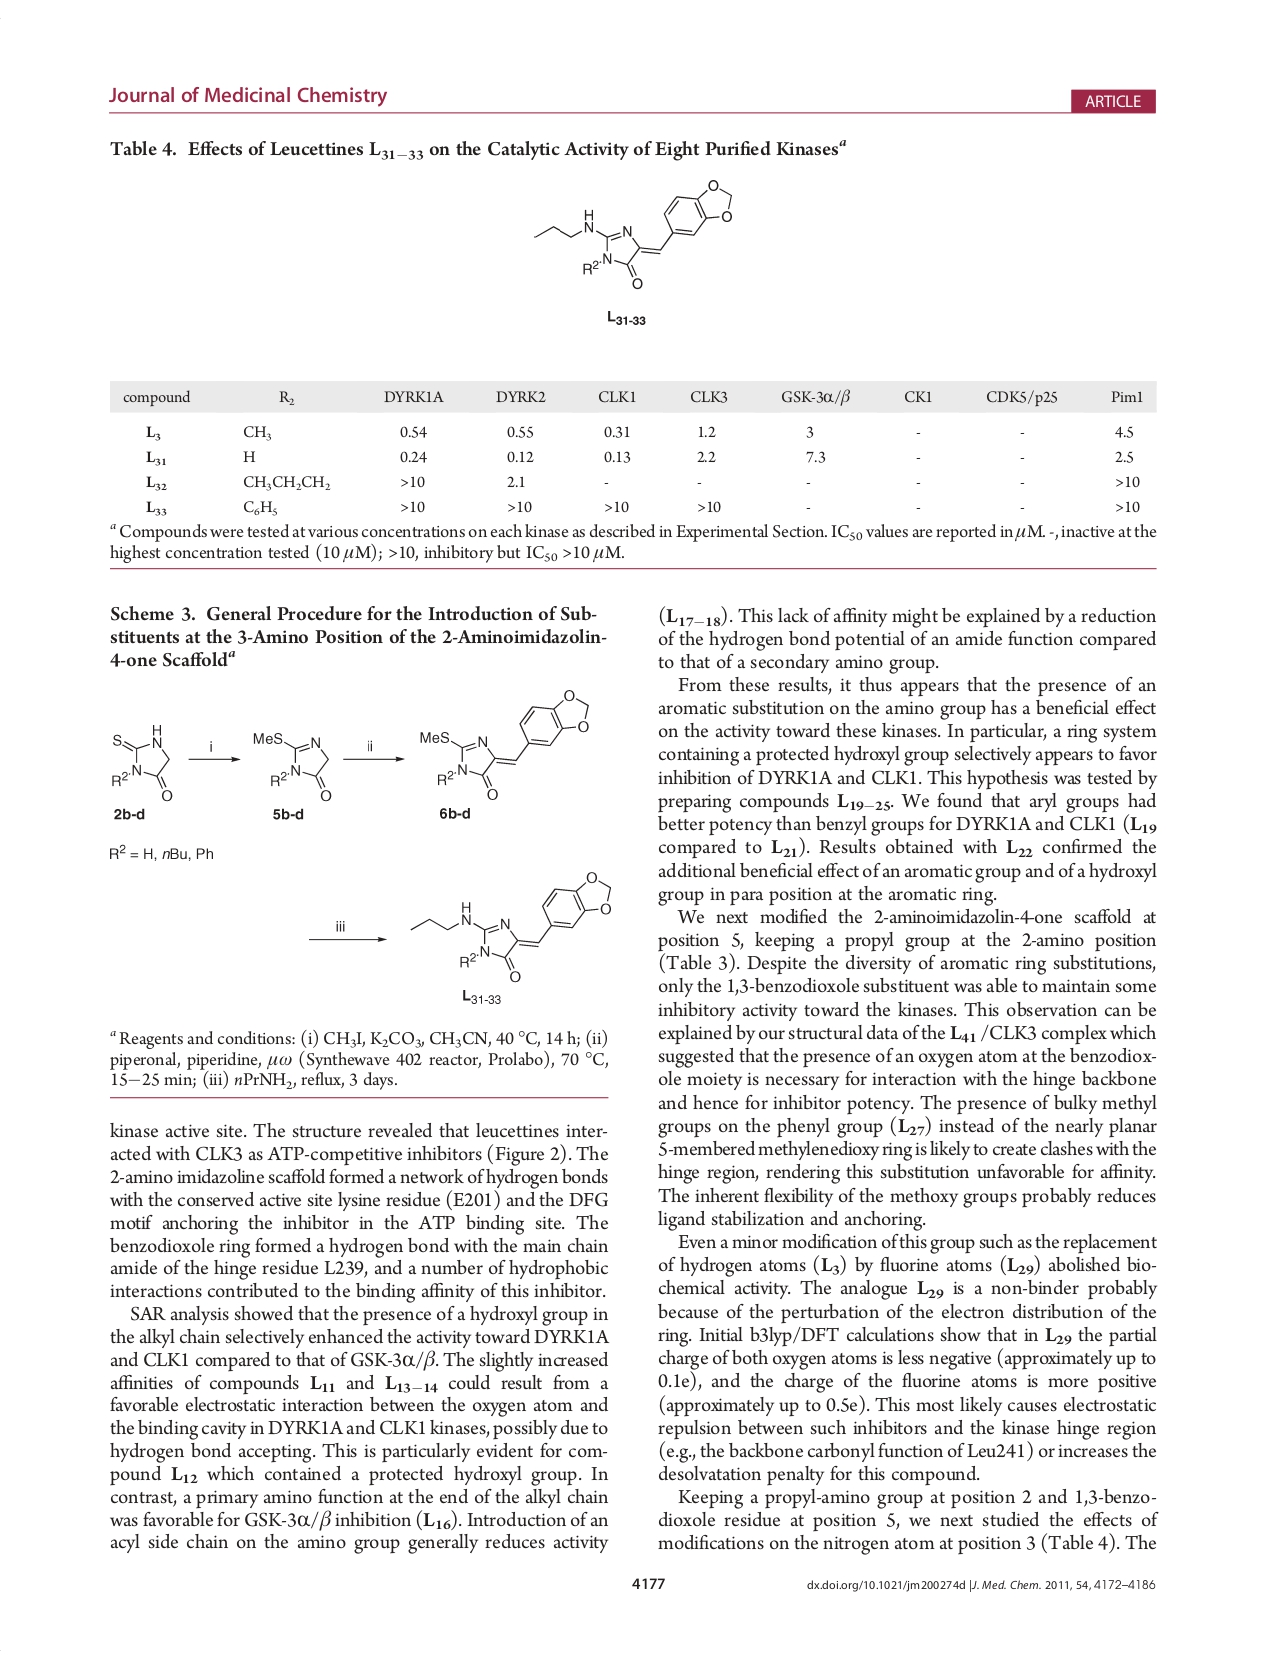exist_molecular: (529, 176, 734, 294), (410, 868, 614, 985), (414, 685, 597, 802), (245, 723, 339, 806), (102, 719, 177, 805)
